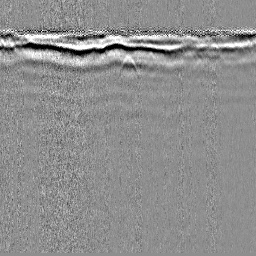cavity: (117, 53, 139, 76)
